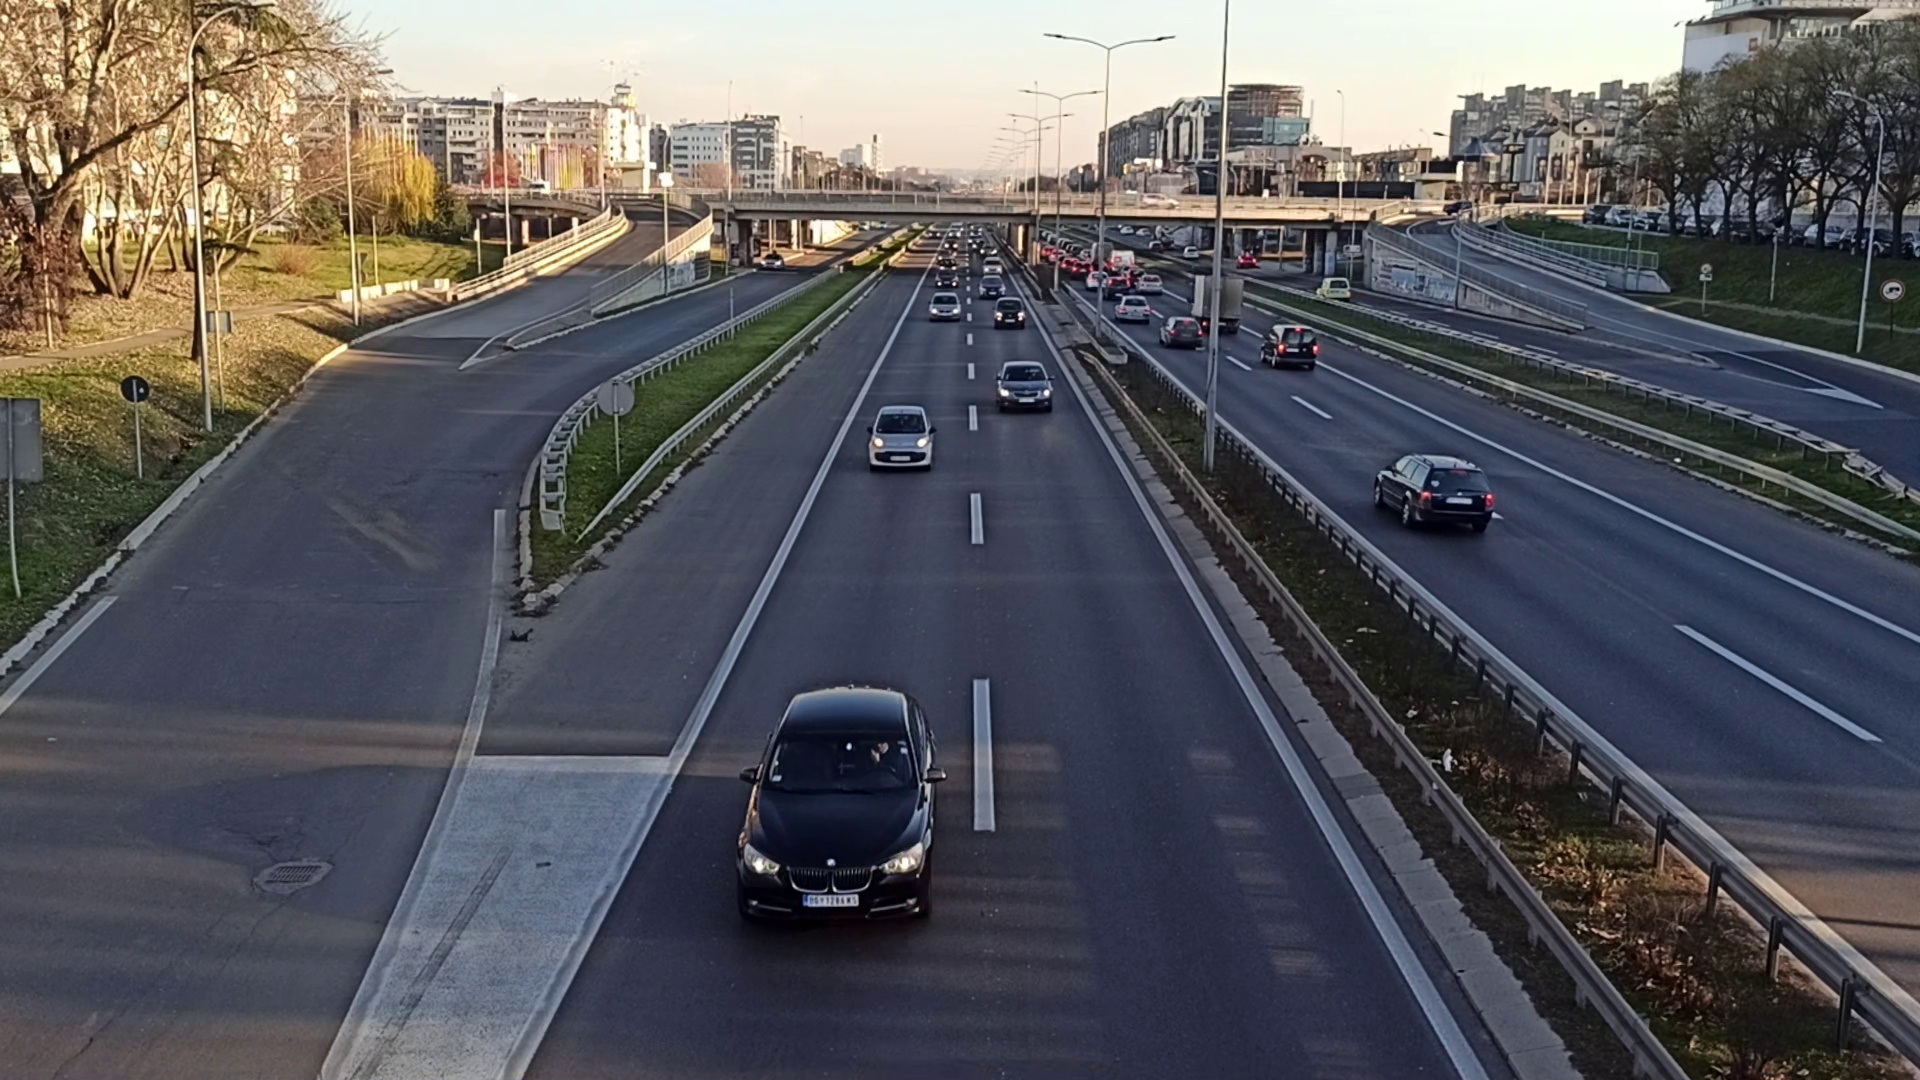car: (731, 683, 938, 939), (1373, 452, 1491, 534), (869, 405, 932, 469), (996, 361, 1054, 410), (1160, 318, 1203, 349), (924, 294, 963, 324), (992, 297, 1025, 326)
truck: (1185, 272, 1242, 332)
van: (1263, 324, 1317, 369)
